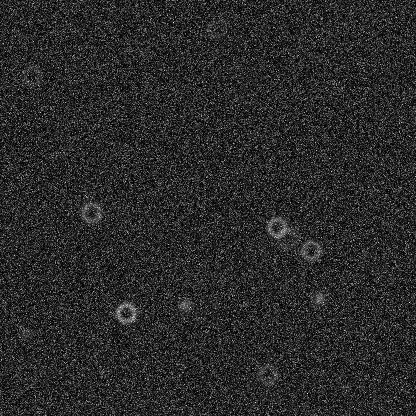Ring: (113, 300, 137, 324), (255, 362, 279, 386), (274, 226, 298, 250), (20, 63, 44, 87), (79, 200, 103, 224), (205, 16, 229, 40), (298, 238, 322, 262), (264, 215, 288, 239)
Spot: (17, 326, 33, 342), (311, 290, 327, 306), (176, 297, 192, 313)
